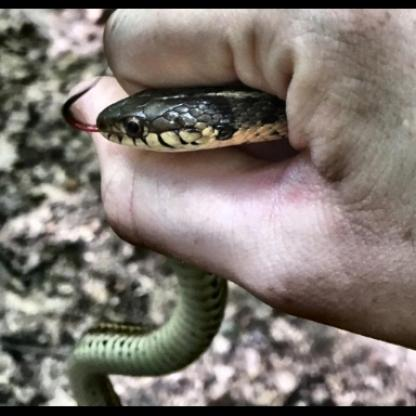Snake: (67, 70, 319, 188)
